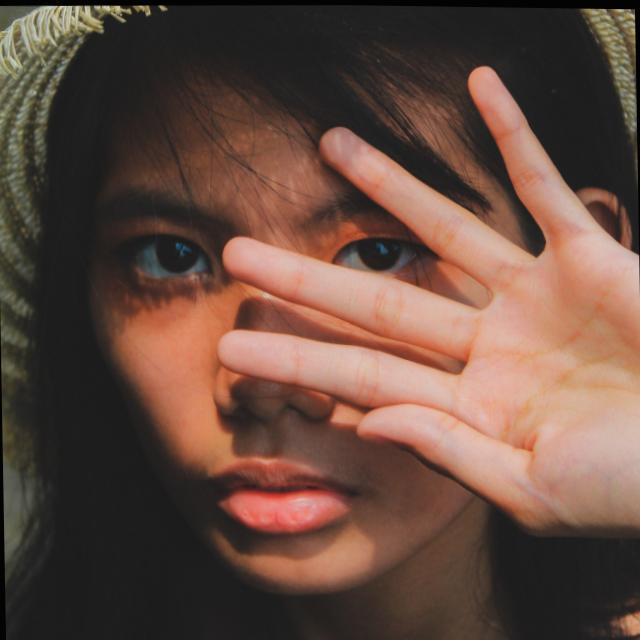7_mano_rostro: (215, 67, 575, 461)
